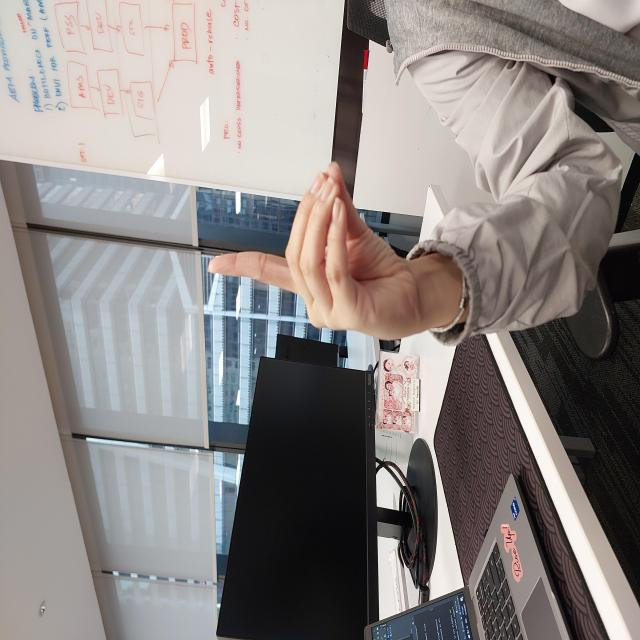D: (302, 208, 478, 412)
